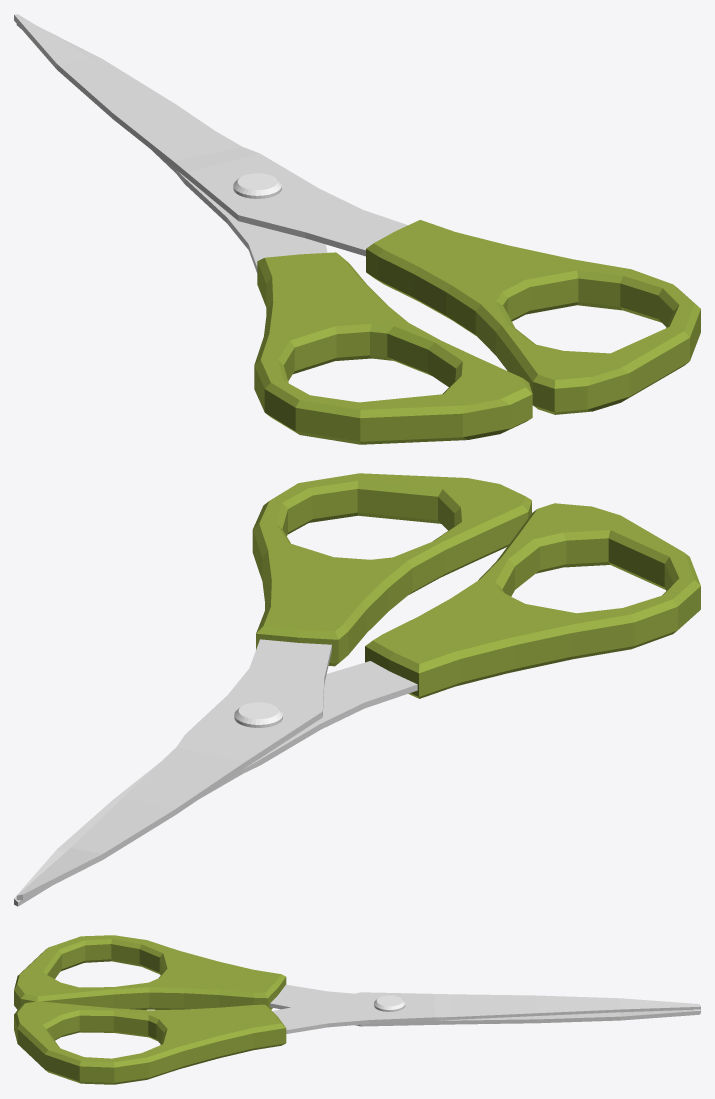
The model's file is Scissors.fbx.
3 views of the same model, one above another, from view 1: azimuth 30°, elevation 25°; view 2: azimuth 150°, elevation 25°; view 3: azimuth 270°, elevation 25° (orthographic). The views are drawn at different scales.
Parts seen in each view (by area): view 1: Scissors; view 2: Scissors; view 3: Scissors.
Part boxes in pixels (x1,y1,x2,y2): Scissors: (14,14,700,444); Scissors: (14,473,700,906); Scissors: (14,935,700,1084).
Size of the model in its own units: 215 by 17.3 by 478.
